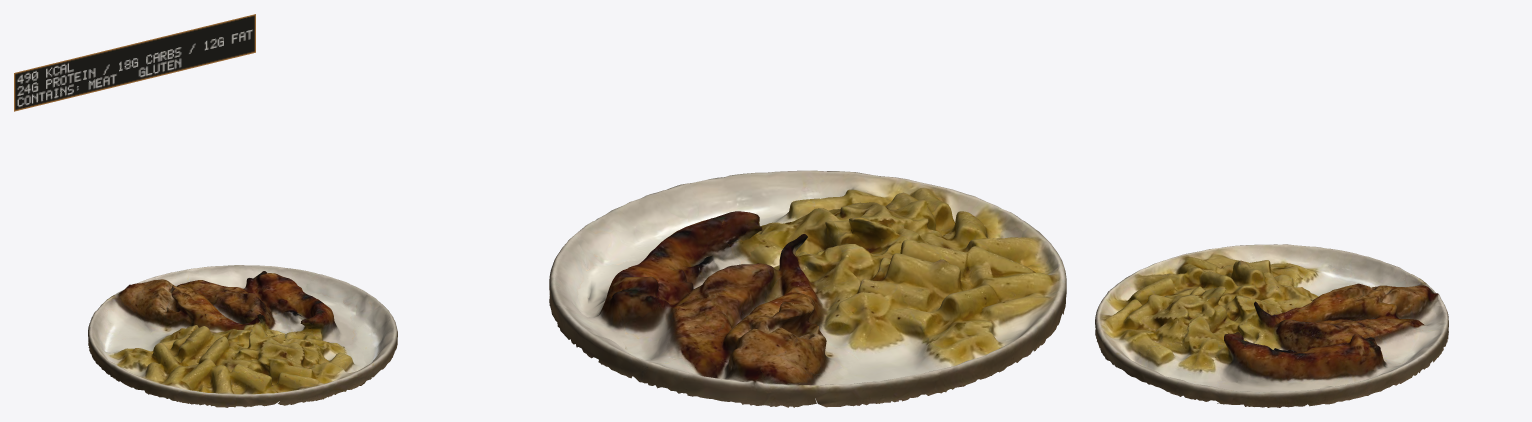
3 views of the same model, side by side, from view 1: azimuth 30°, elevation 25°; view 2: azimuth 150°, elevation 25°; view 3: azimuth 270°, elevation 25° (orthographic). The views are drawn at different scales.
Visible parts, largest first — view 1: geom, nutrition-panel-node; view 2: geom; view 3: geom.
Part boxes in pixels (x1=…): geom: x1=88, y1=265, x2=397, y2=407; nutrition-panel-node: x1=14, y1=14, x2=255, y2=111; geom: x1=549, y1=170, x2=1066, y2=407; geom: x1=1095, y1=244, x2=1448, y2=407.
Size of the model in its own units: 0.2841 by 0.231 by 0.3403.
2 materials, 2 textured.
